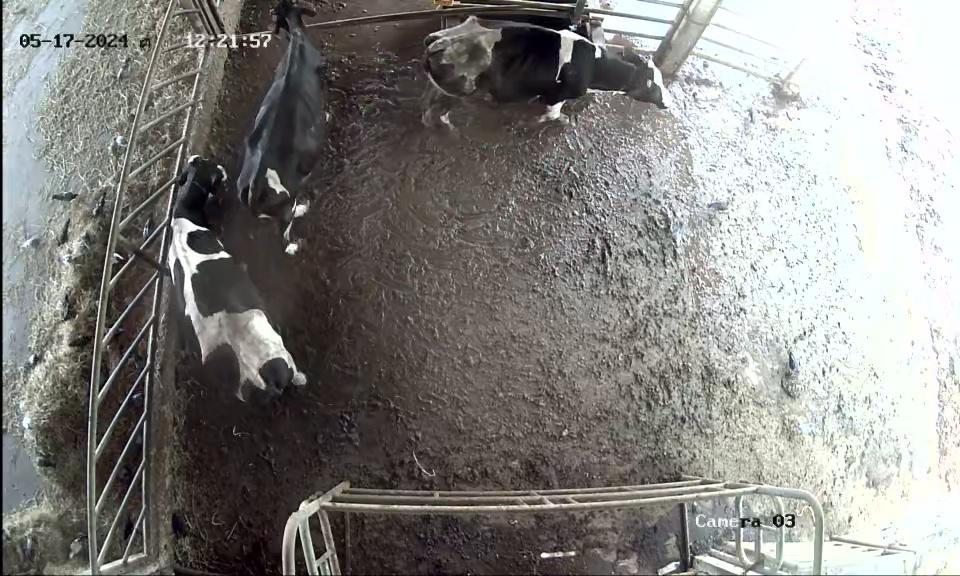stand: (403, 7, 690, 151), (168, 153, 306, 411), (232, 0, 347, 266)
